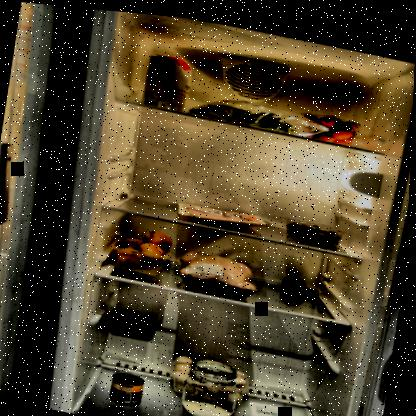blueberries: (283, 210, 348, 242)
chicken: (174, 241, 266, 299)
corn: (111, 367, 149, 405)
green_beans: (188, 86, 302, 130)
lime: (282, 267, 309, 288)
mushrooms: (170, 348, 256, 399)
onion: (109, 218, 177, 274)
strawberries: (299, 100, 363, 141)
